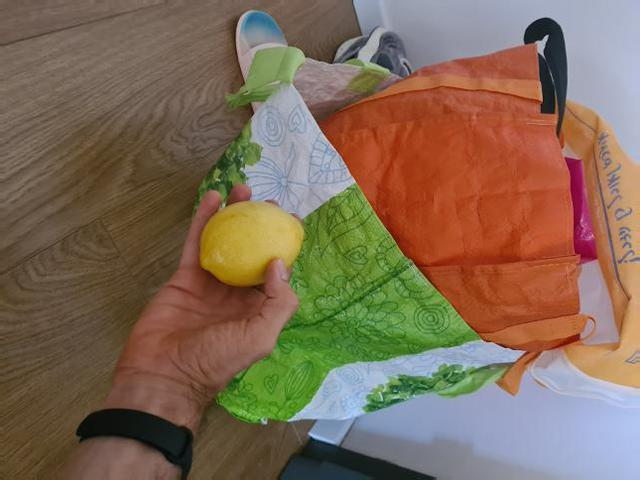lemon: (197, 201, 304, 289)
